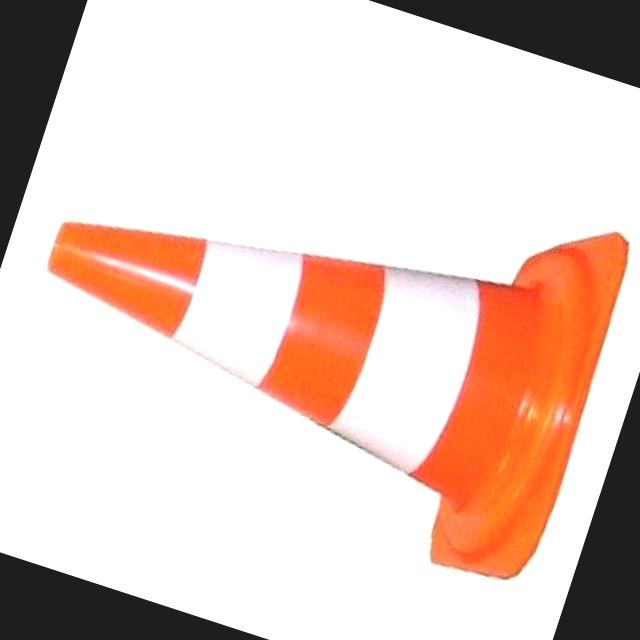cone: (0, 37, 640, 610)
